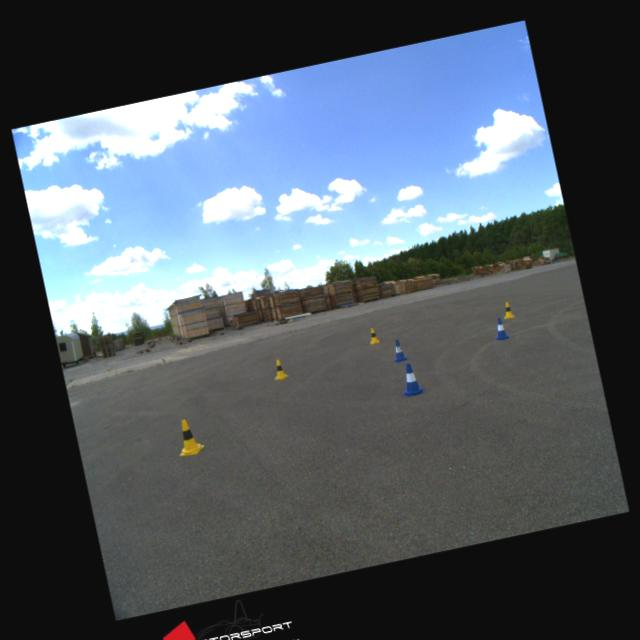blue_cone: (398, 360, 422, 398), (491, 316, 508, 340), (389, 338, 406, 362)
yellow_cone: (172, 416, 205, 456), (269, 358, 288, 380), (501, 301, 514, 318), (367, 326, 379, 343)
